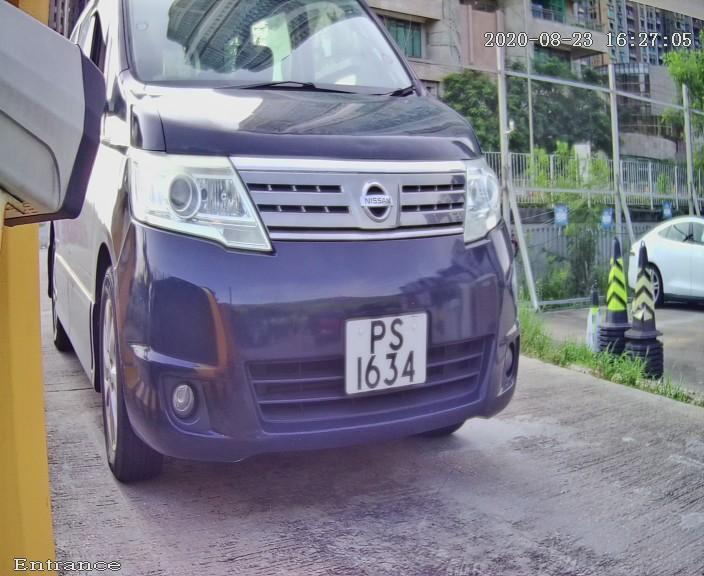Car: (41, 8, 576, 502)
License Plate: (337, 301, 441, 404)
